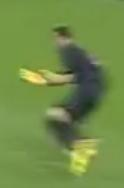goalkeeper: (15, 16, 118, 179)
